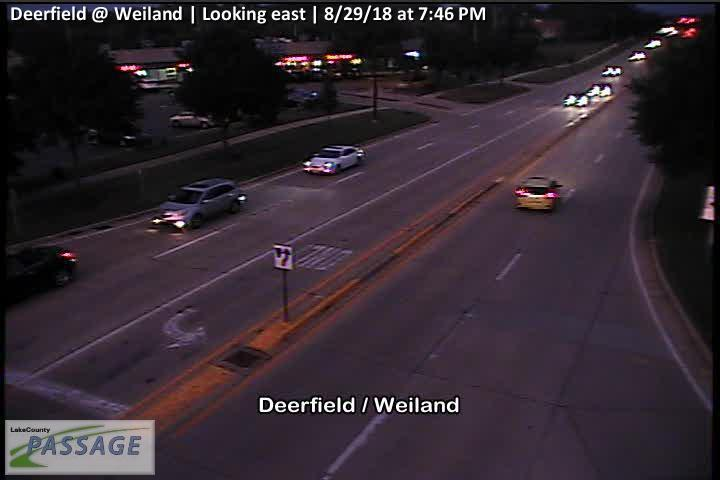SUV: (159, 178, 249, 230), (511, 177, 563, 212)
Sedan: (1, 245, 78, 303), (303, 144, 366, 175)
